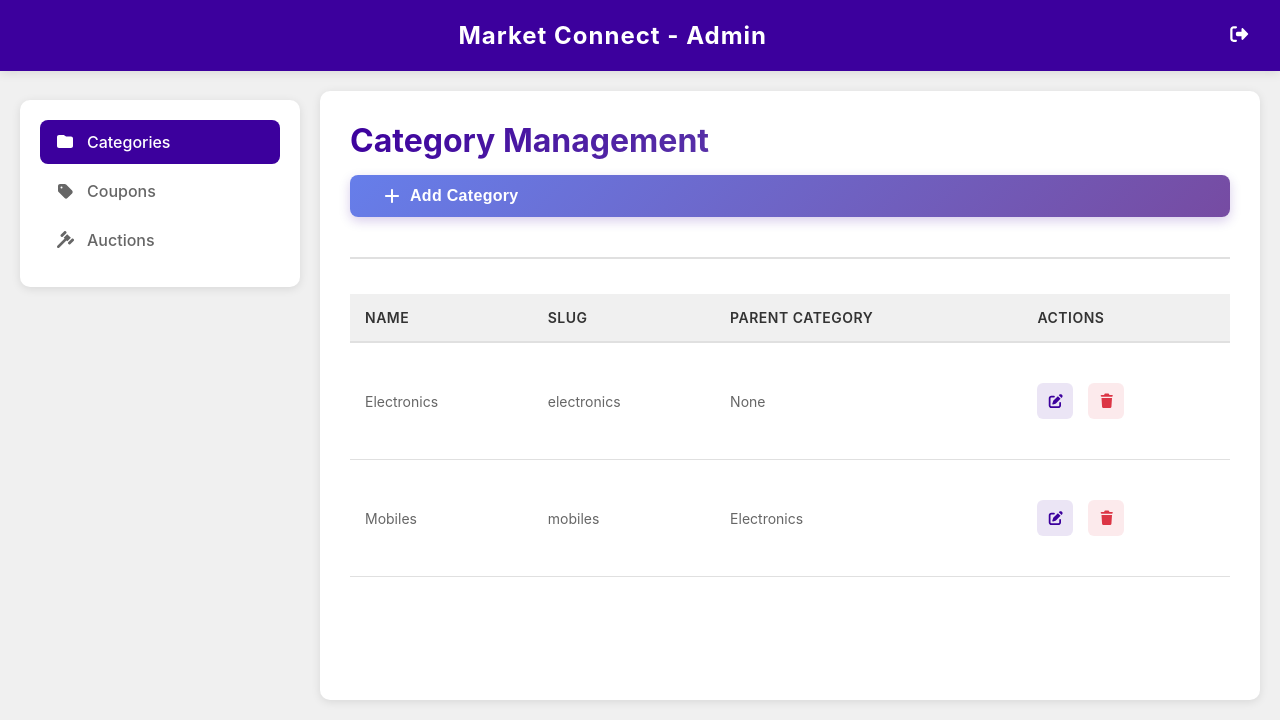
Test: AdminDashboard Component › navigates to coupons view
Click the text "Coupons". click: (121, 191)
box: [87,181,156,201]
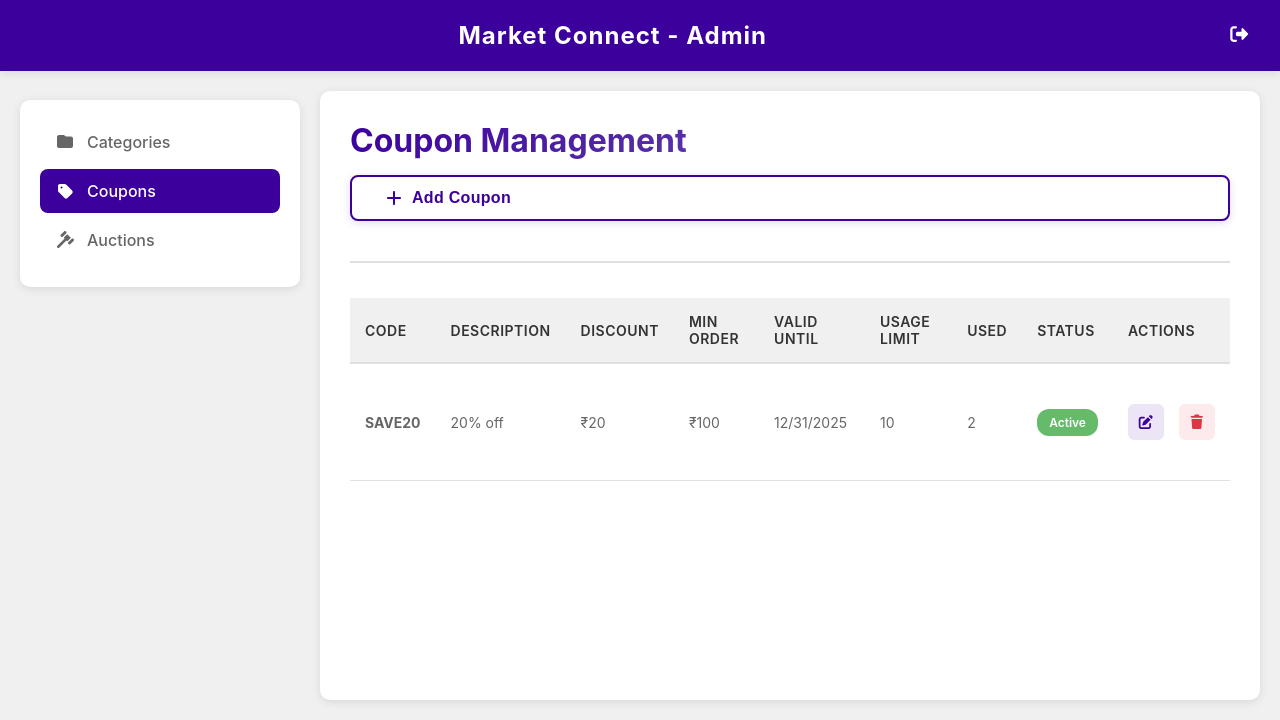
Expected: the heading "Coupon Management" is shown, [350,121,687,160]
